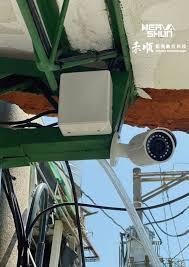Monitor: (98, 104, 189, 196)
